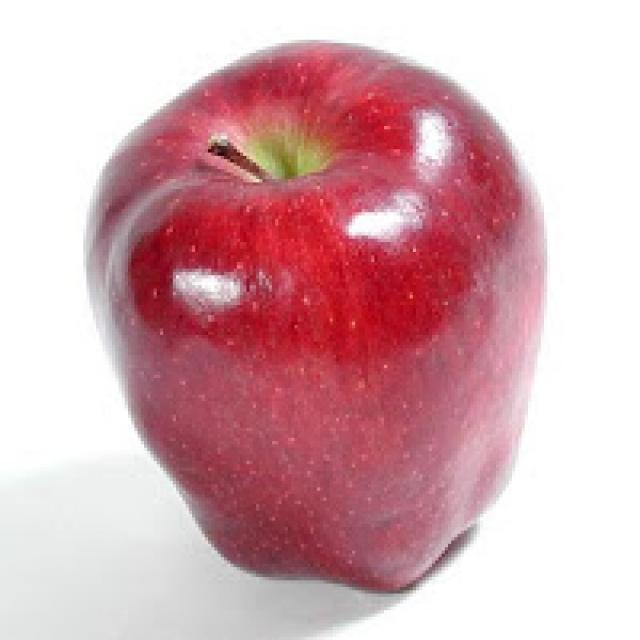Apple: (85, 38, 549, 602)
